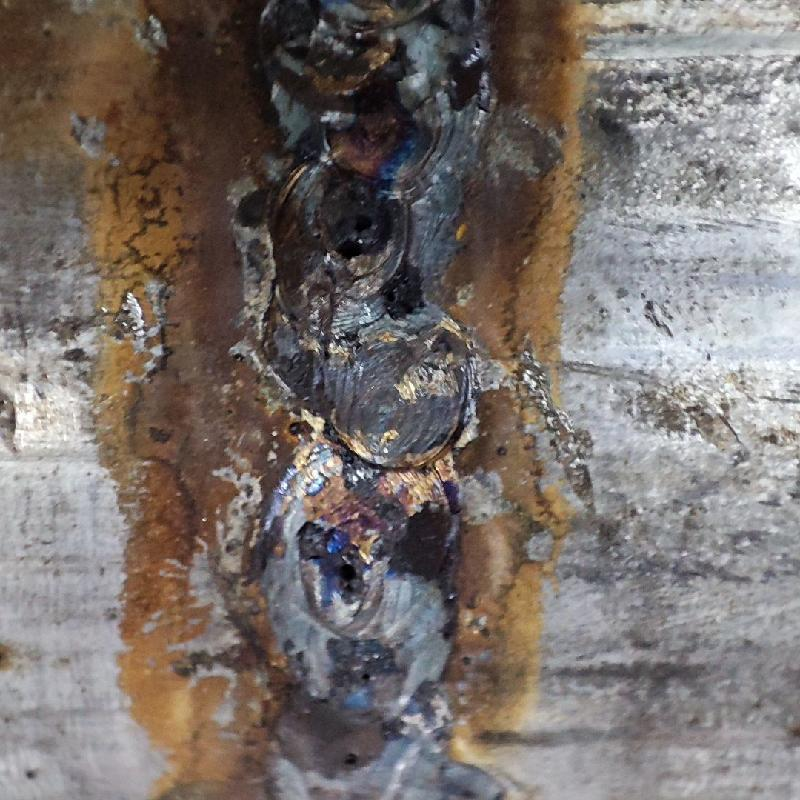Surface_pores: (317, 198, 392, 265), (319, 535, 380, 610)
crater: (264, 0, 464, 463), (266, 465, 466, 796)
